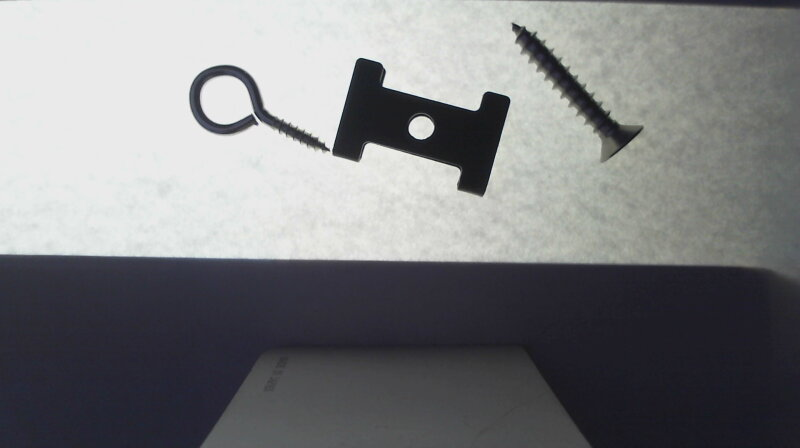O001: (187, 62, 331, 155)
O002: (335, 56, 510, 199)
S001: (511, 22, 646, 163)
